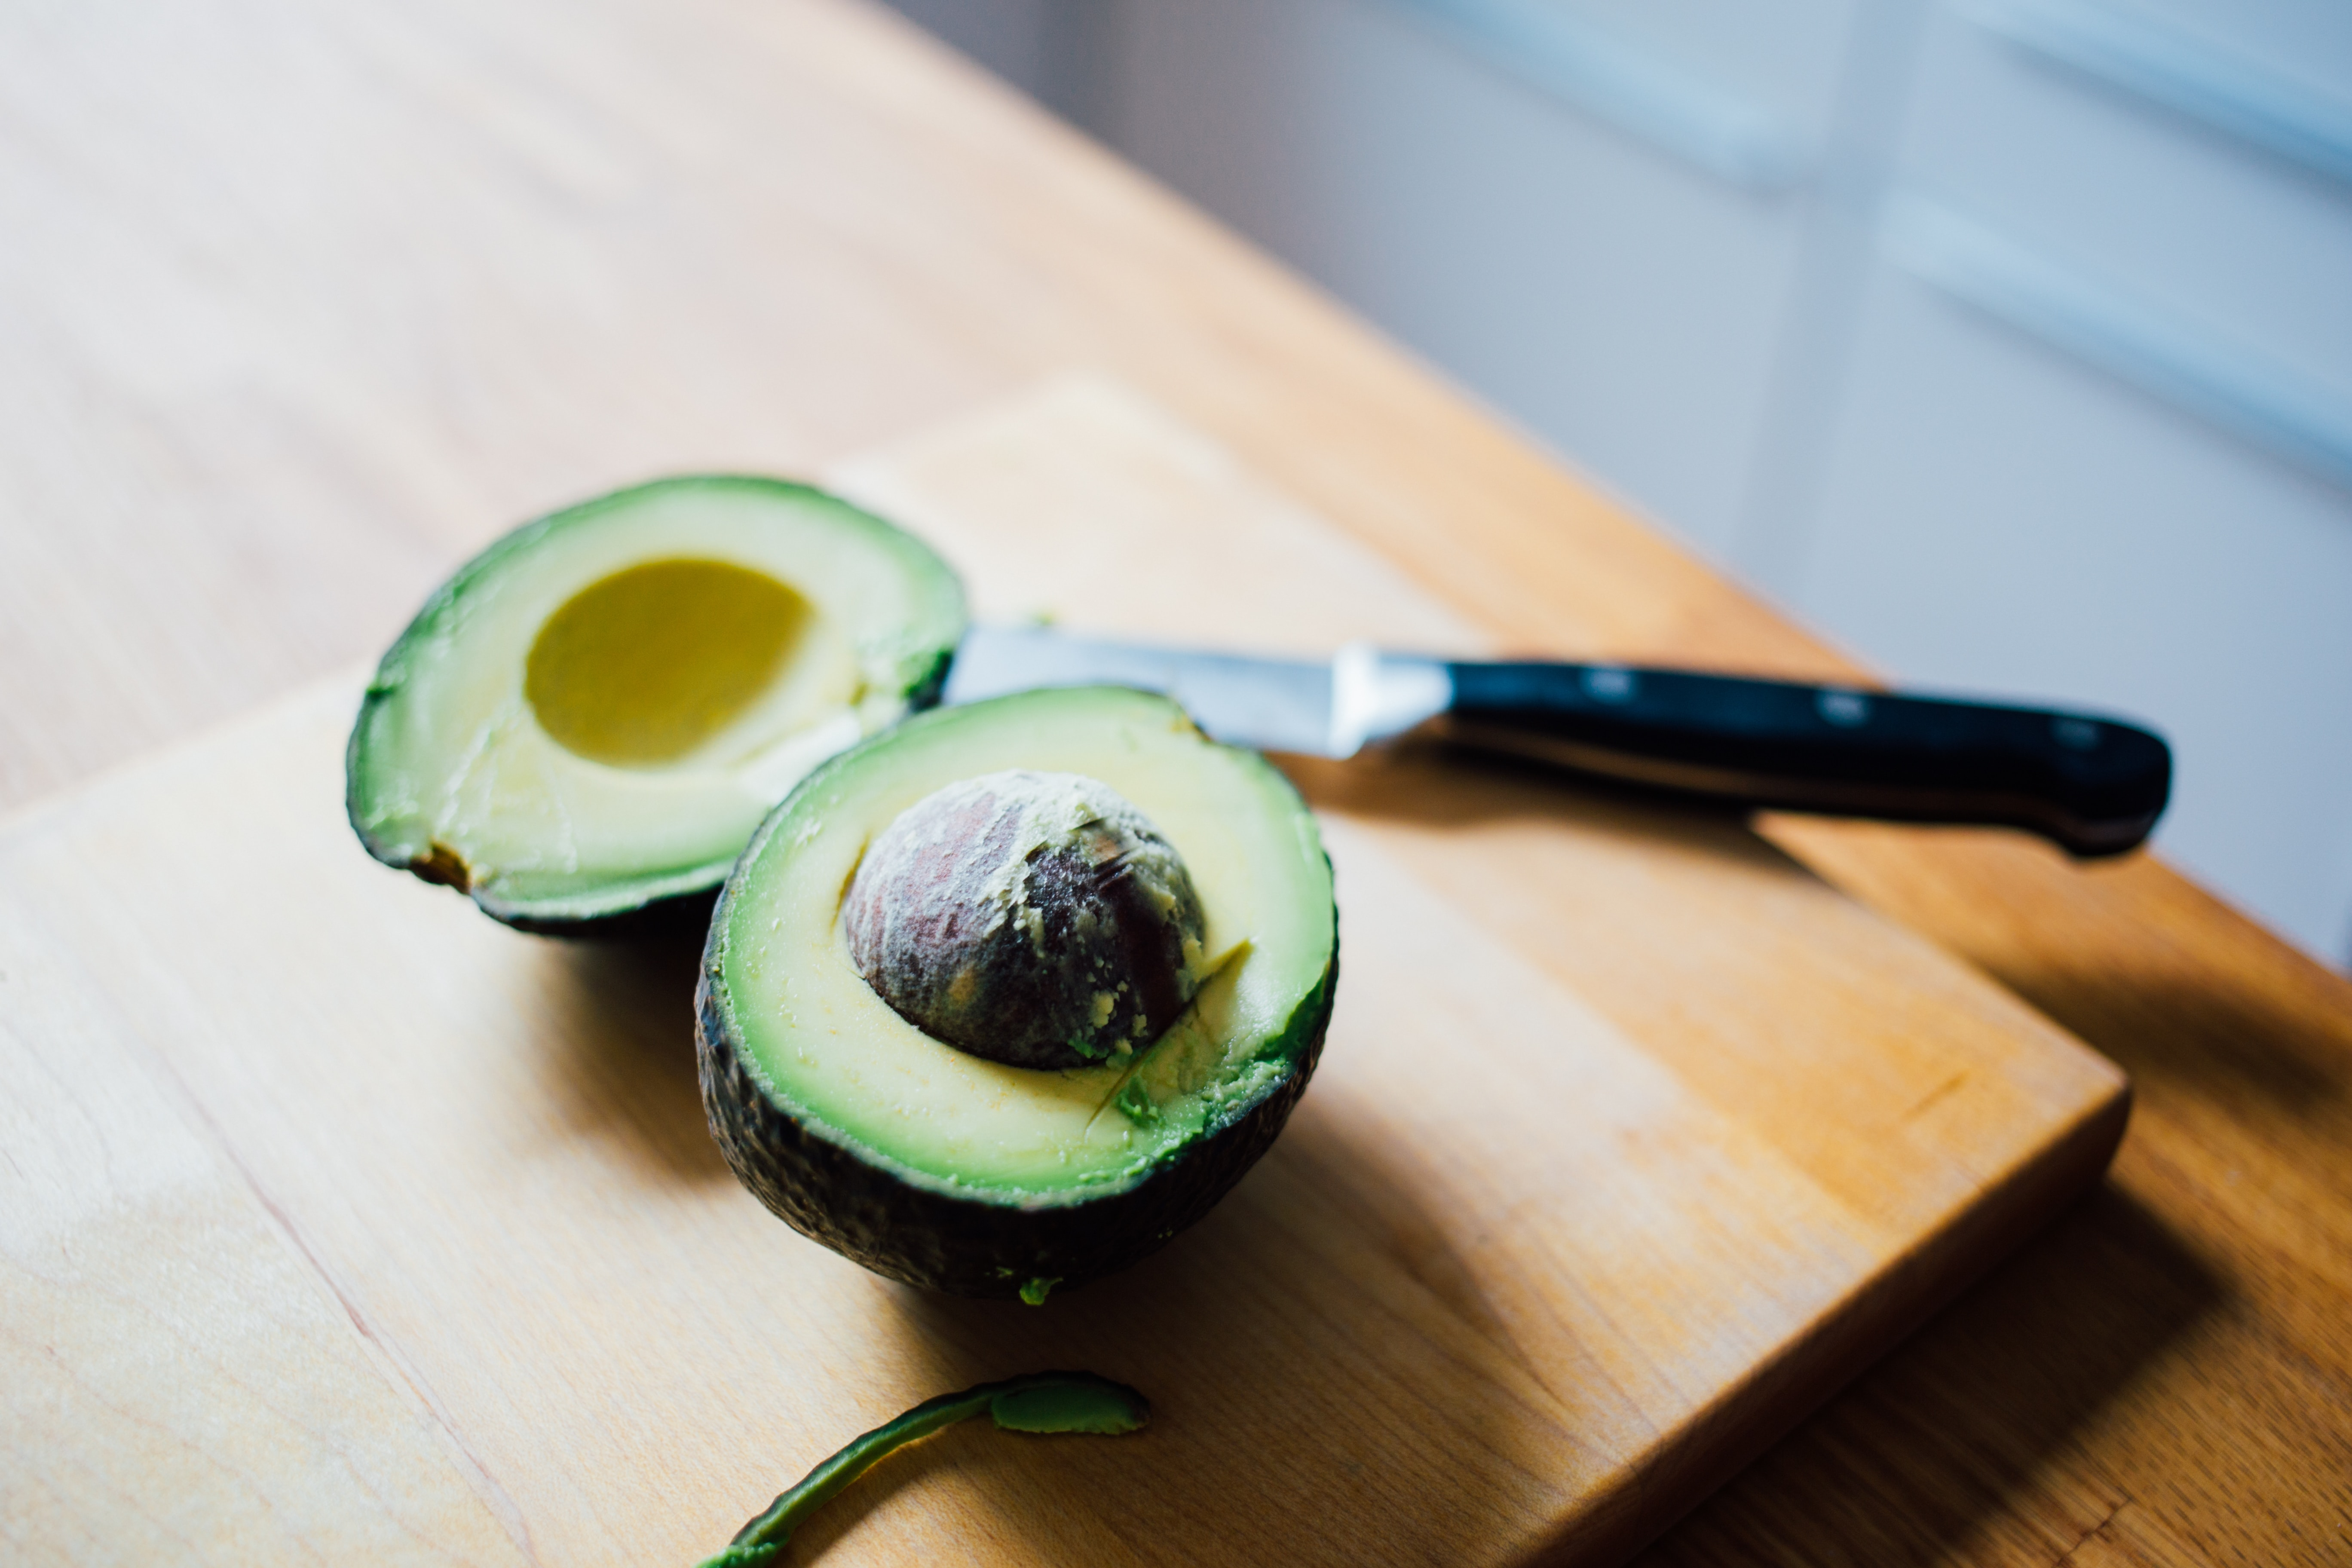knife: (884, 591, 2207, 899)
